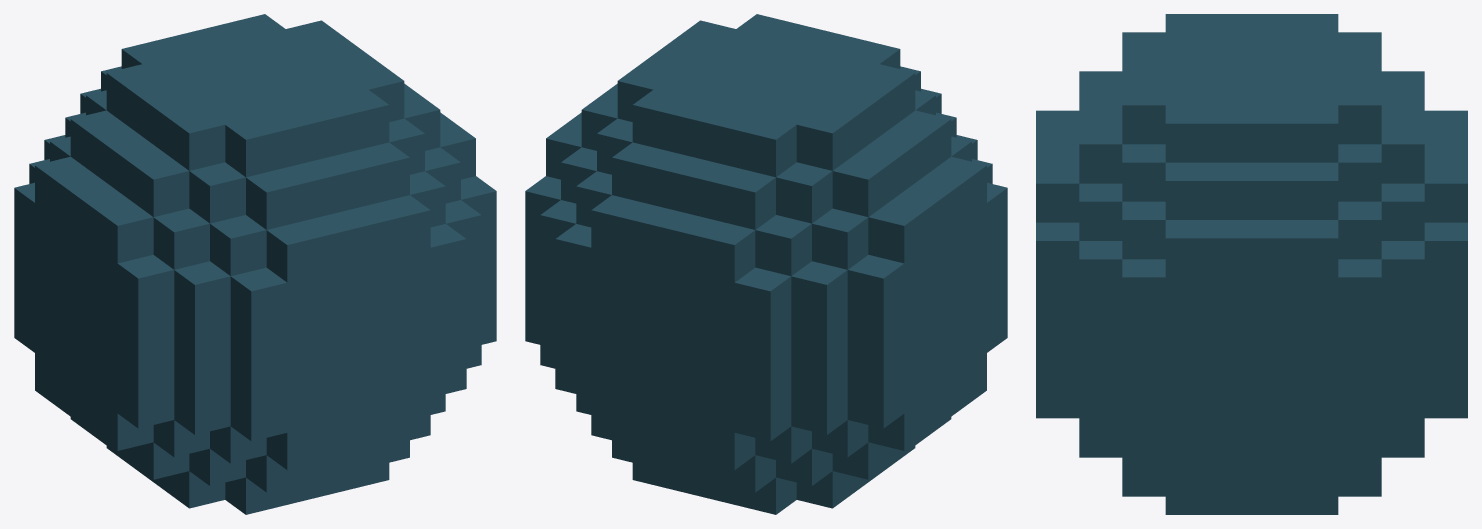
File: sphere_blue.fbx
The picture shows the model from 3 angles, left to right: view 1: azimuth 30°, elevation 25°; view 2: azimuth 150°, elevation 25°; view 3: azimuth 270°, elevation 25°; orthographic projection. The views are drawn at different scales.
Parts seen in each view (by area): view 1: sphere_blue; view 2: sphere_blue; view 3: sphere_blue.
Part boxes in pixels (x1,y1,x2,y2): sphere_blue: (14, 14, 496, 514); sphere_blue: (525, 14, 1007, 514); sphere_blue: (1036, 14, 1467, 514).
Size of the model in its own units: 10 by 10 by 10.
Materials: 1 (1 with a texture image).
